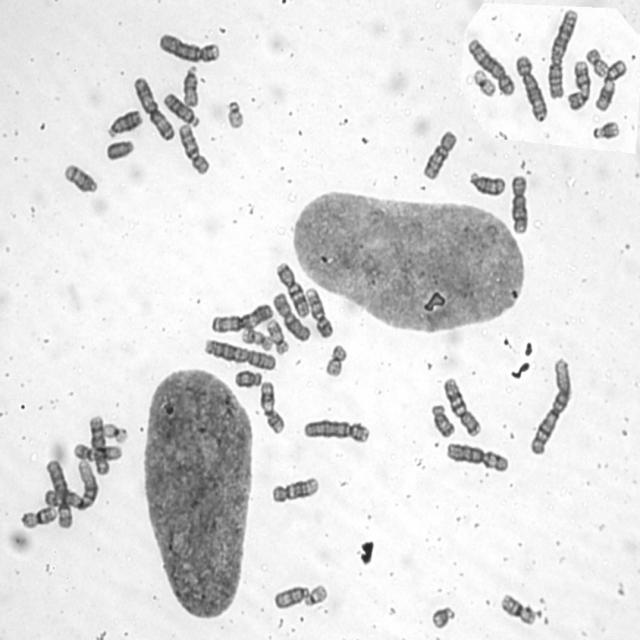A1: (526, 353, 574, 457), (41, 457, 101, 512)
A2: (545, 6, 579, 100), (201, 336, 277, 372)
A3: (132, 74, 176, 142), (208, 300, 275, 334)
B4: (156, 29, 222, 64), (301, 415, 371, 445)
B5: (466, 34, 516, 96), (515, 55, 548, 122)
C10: (420, 126, 460, 182), (176, 120, 211, 176)
C11: (594, 57, 628, 111), (257, 378, 287, 436)
C12: (269, 473, 320, 505), (70, 439, 124, 463)
C6: (444, 439, 510, 474), (44, 457, 74, 531)
C7: (441, 374, 482, 438), (272, 258, 310, 318)
C8: (86, 412, 110, 476), (508, 172, 530, 236)
C9: (304, 284, 334, 338), (565, 56, 592, 112)
D13: (161, 90, 201, 129), (105, 106, 144, 138)
D14: (62, 161, 100, 195), (467, 168, 507, 199)
D15: (271, 582, 311, 610), (180, 63, 200, 108)
E16: (499, 589, 537, 627), (18, 502, 58, 530)
E17: (264, 317, 290, 356), (239, 326, 274, 352)
E18: (429, 400, 459, 438), (232, 368, 263, 390)
F19: (472, 67, 497, 97), (101, 420, 129, 444)
F20: (584, 44, 609, 78), (325, 344, 350, 374)
G21: (429, 602, 457, 629), (590, 118, 622, 141)
G22: (301, 580, 329, 608), (224, 98, 246, 130)
X: (270, 290, 312, 343)
Y: (103, 138, 136, 162)
